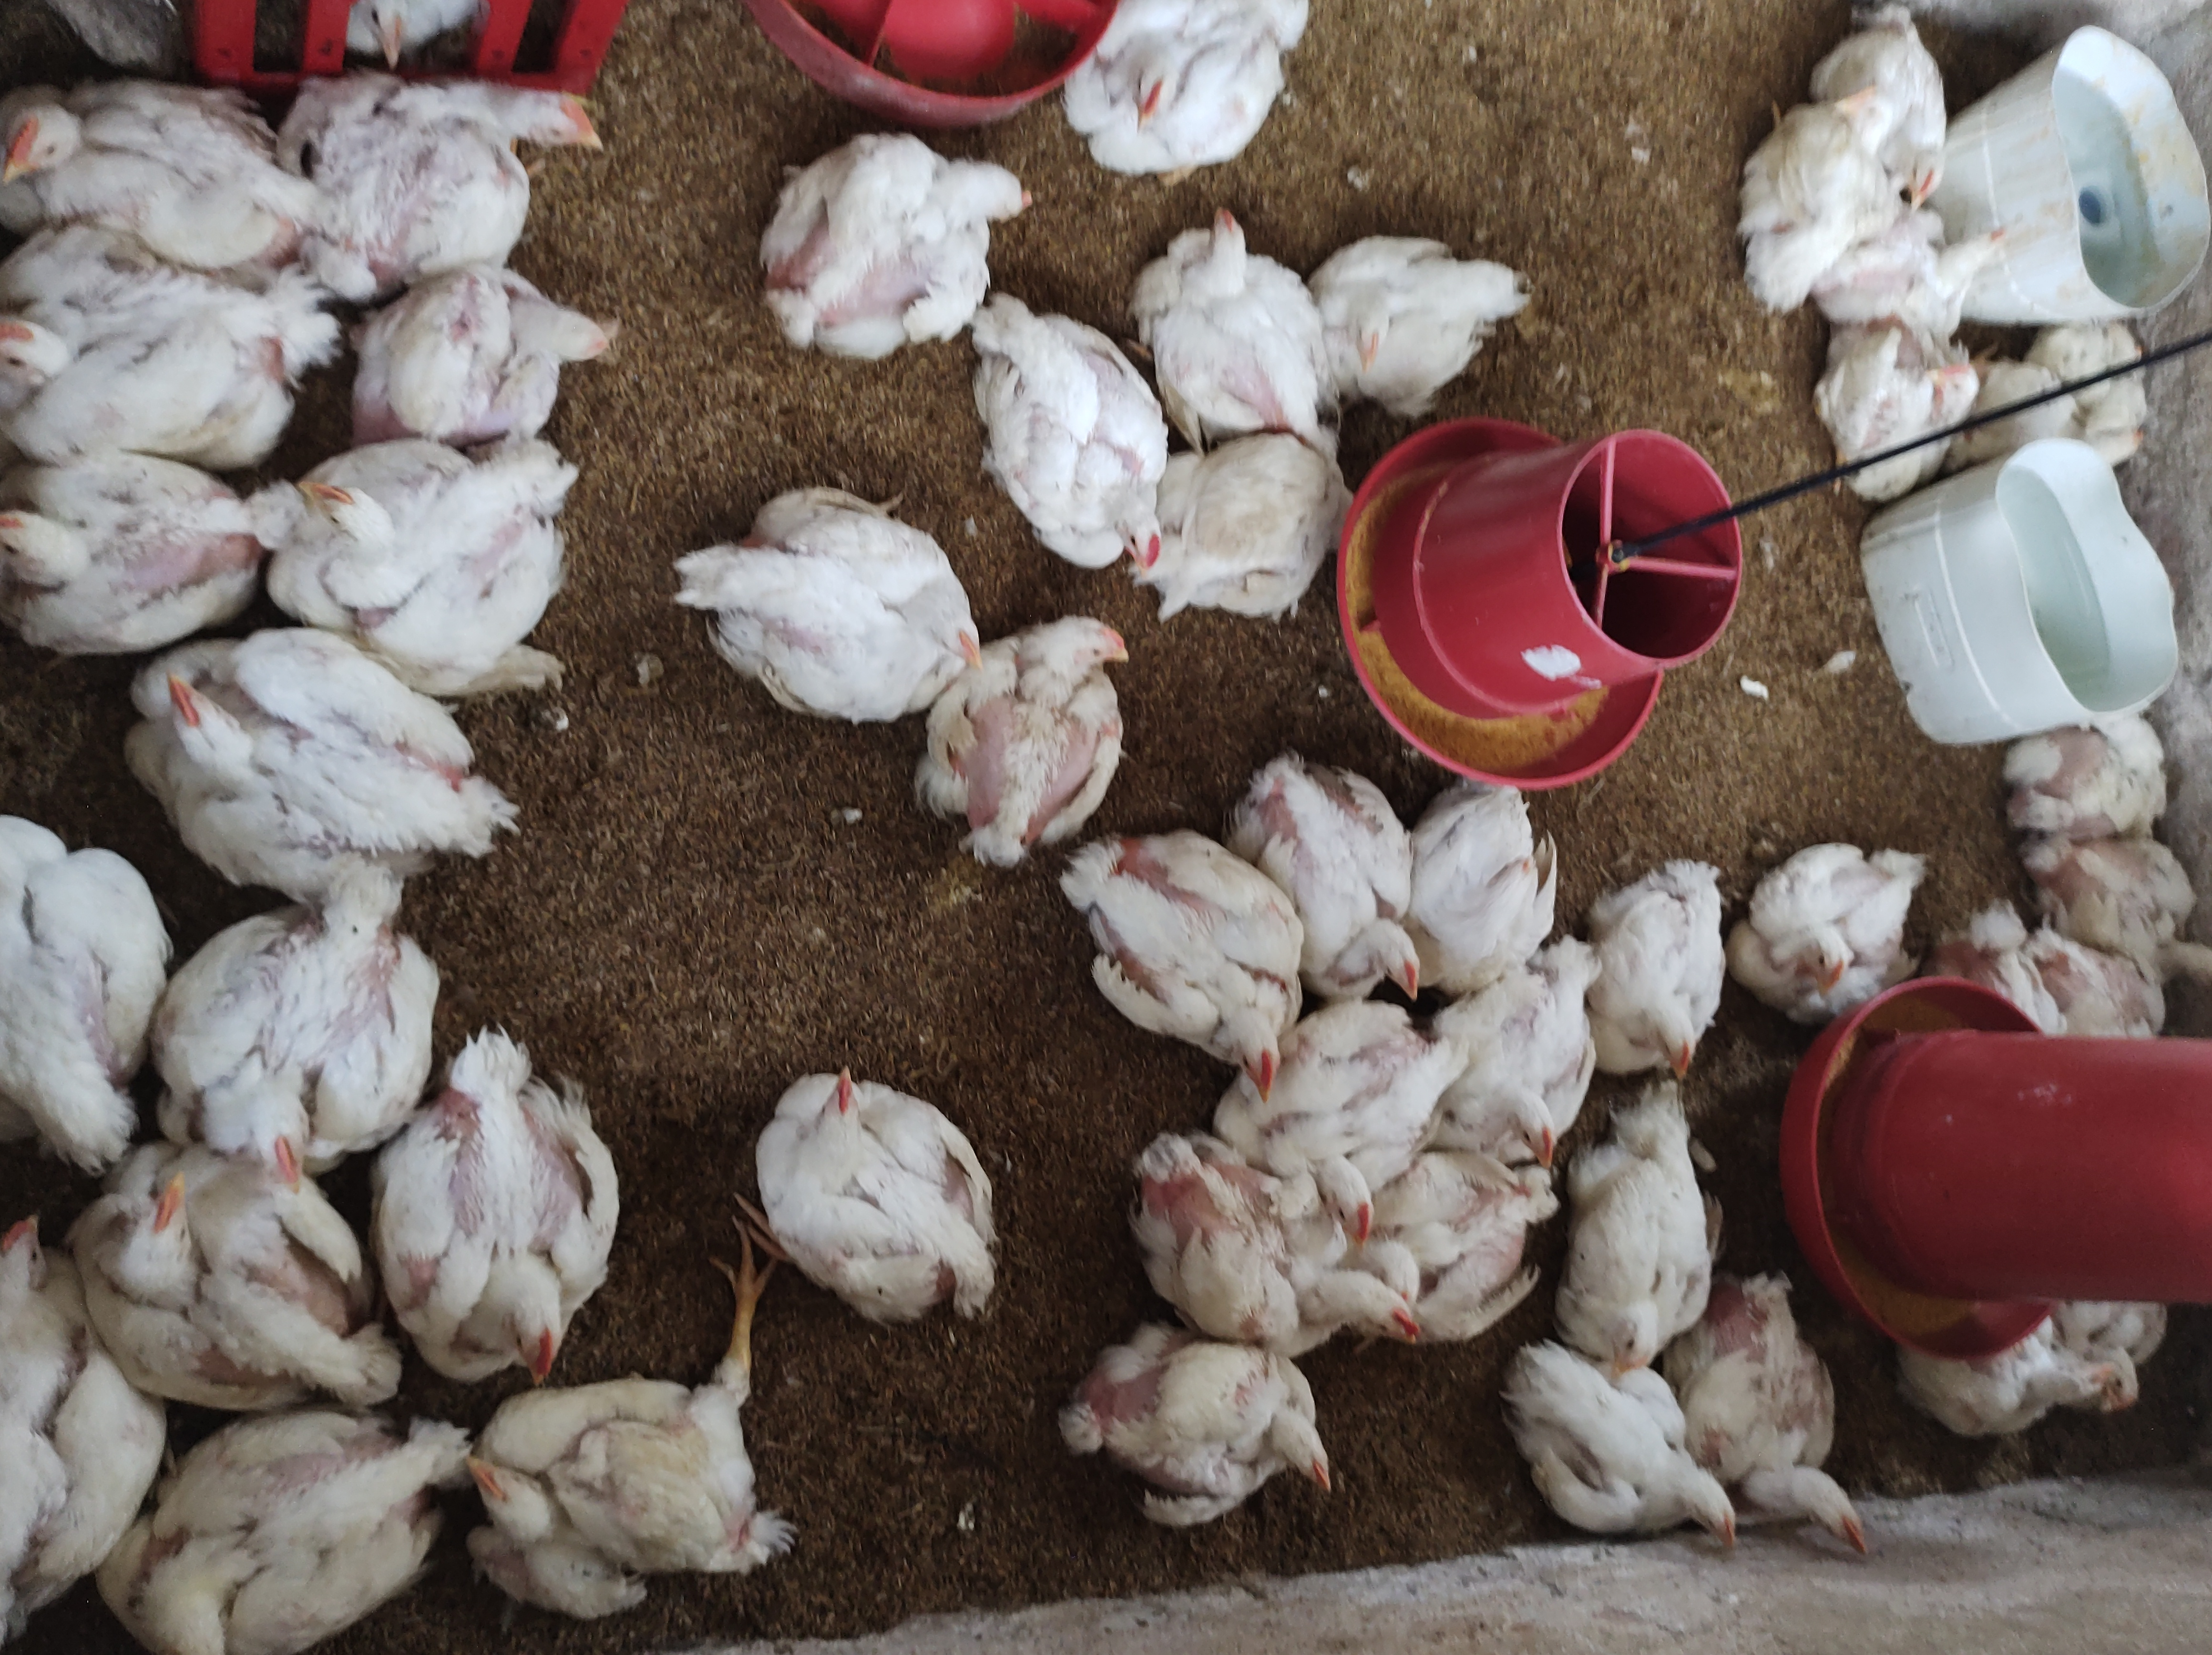Pollos: (111, 614, 499, 911), (78, 1128, 391, 1412), (148, 897, 442, 1184), (254, 410, 586, 661), (478, 1379, 793, 1641), (118, 1426, 475, 1655), (402, 1048, 635, 1382), (292, 47, 631, 273), (739, 1064, 1009, 1342), (685, 468, 949, 748), (753, 106, 1029, 363), (913, 610, 1186, 864), (1069, 831, 1327, 1088), (946, 283, 1163, 584), (1059, 1339, 1353, 1558), (0, 814, 165, 1201), (1127, 1132, 1419, 1349), (0, 254, 311, 454), (0, 57, 301, 254), (0, 461, 249, 687), (1109, 189, 1343, 428), (1059, 0, 1346, 189), (1516, 1342, 1736, 1579), (0, 1219, 118, 1655), (325, 273, 631, 440), (1563, 1088, 1739, 1375), (1692, 1276, 1869, 1559), (1113, 428, 1367, 624), (1226, 1010, 1442, 1226), (1711, 76, 1902, 316), (1889, 1286, 2151, 1460), (1259, 744, 1433, 1005), (1582, 859, 1760, 1088), (1739, 826, 1925, 1038), (1949, 894, 2175, 1067), (1349, 229, 1534, 424), (1449, 942, 1598, 1165), (1814, 330, 1993, 515), (1369, 1147, 1546, 1321), (1407, 793, 1562, 984), (2042, 808, 2212, 968), (1838, 3, 1963, 203), (1998, 709, 2193, 836), (322, 0, 515, 110), (2038, 313, 2162, 475), (1915, 217, 2052, 287)
